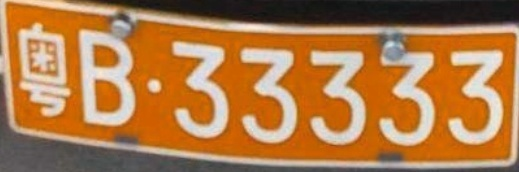B: (79, 20, 135, 126)
